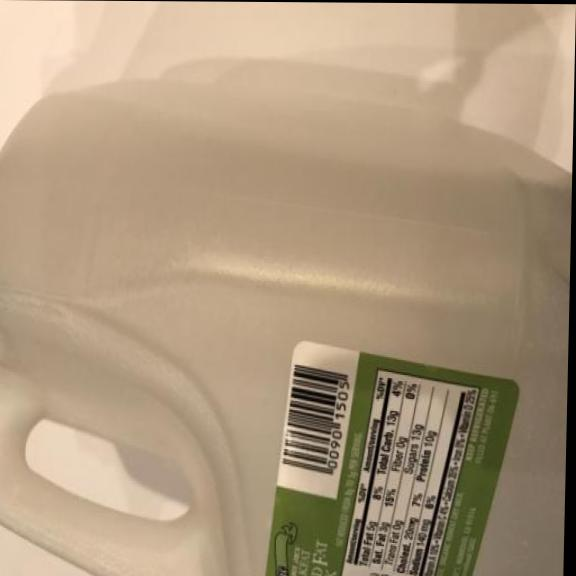Plastik: (0, 71, 573, 576)
